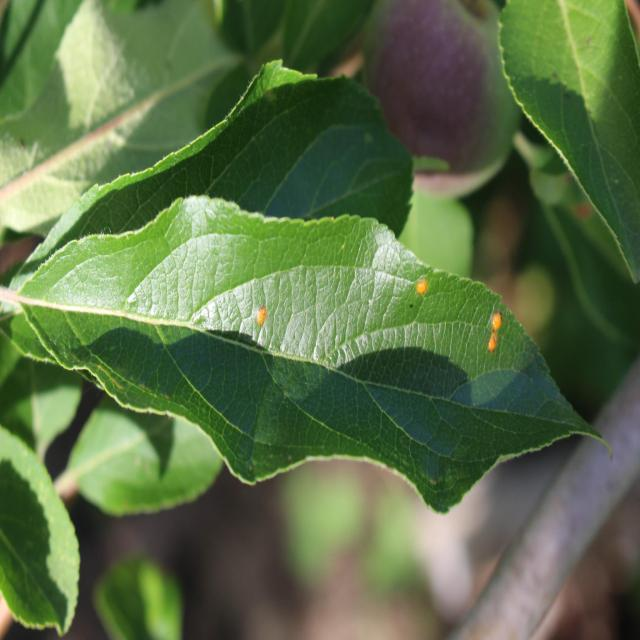Rust: (245, 288, 269, 344), (409, 277, 433, 305), (485, 300, 506, 332), (479, 330, 502, 357)
